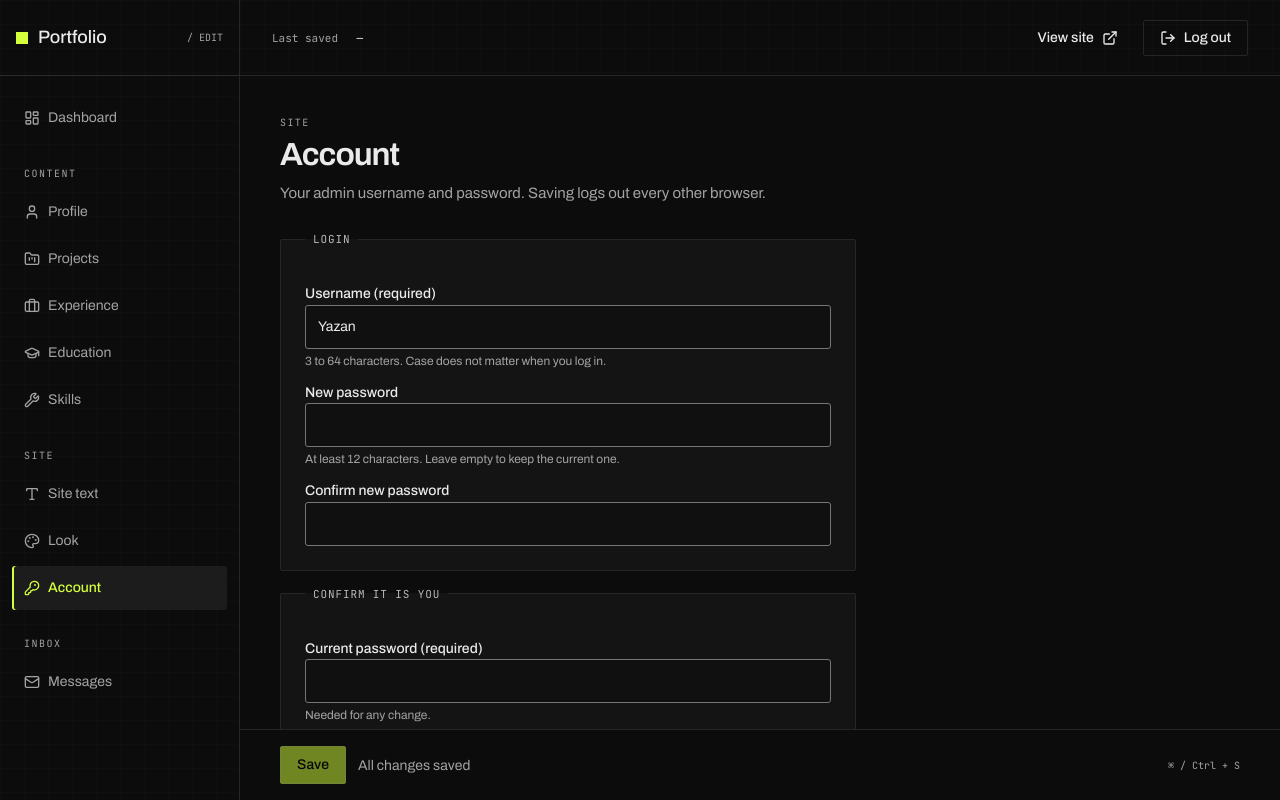
Test: AdminAccount › a stale save (409) shows the reload message and stays on the page
This screenshot has width=1280, height=800.
Replace the text in the field labelled "Username (required)" with "Admin2": coordinates (568, 327) 305,305 -> 831,349
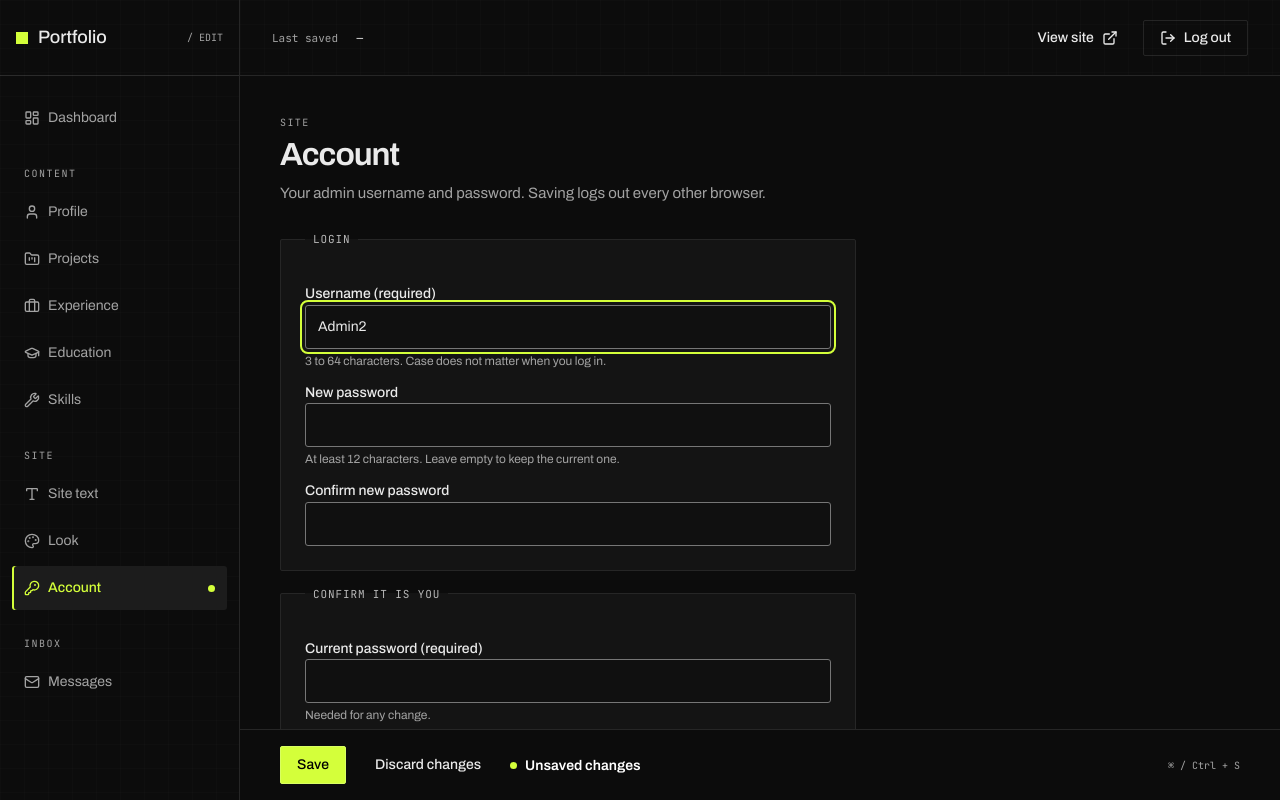
In the password field labelled "Current password (required)": coordinates (568, 681) 305,659 -> 831,703, type "the current password"
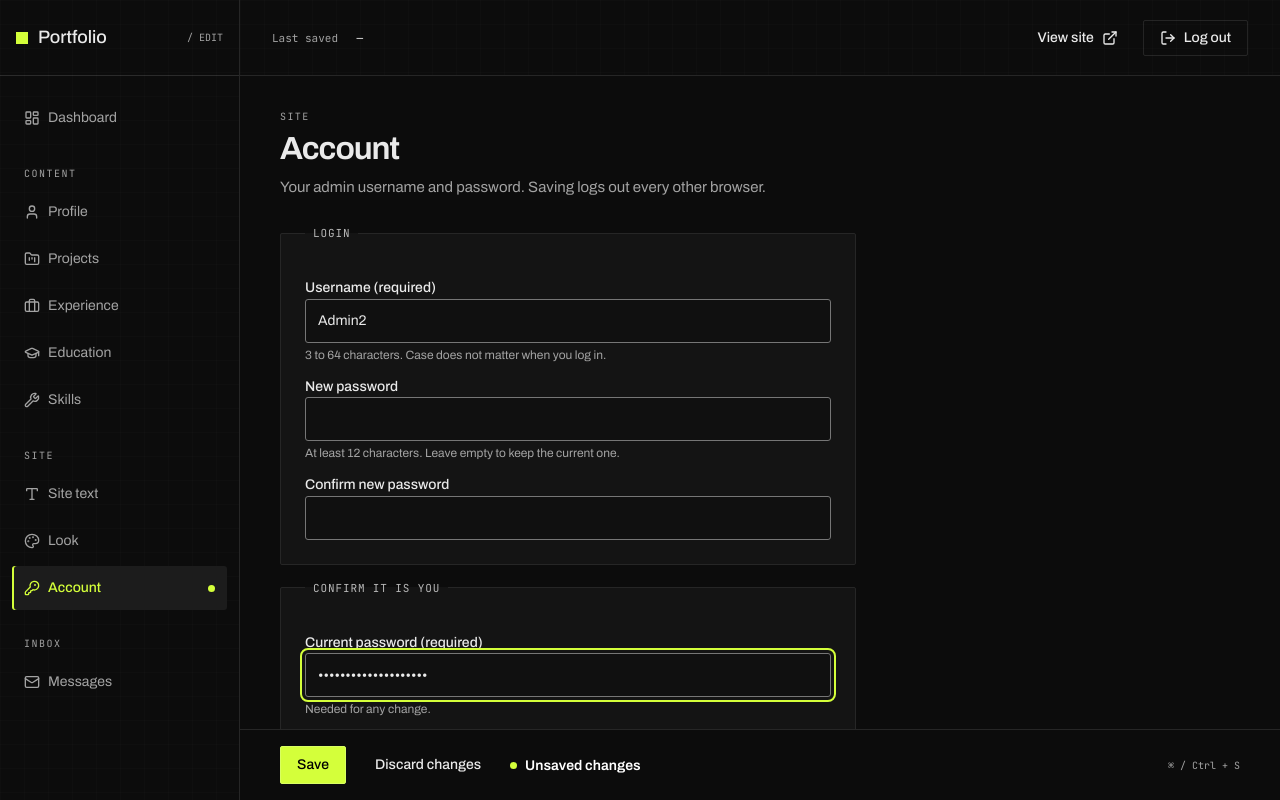
Click the button "Save": coordinates (313, 765) 280,746 -> 346,784
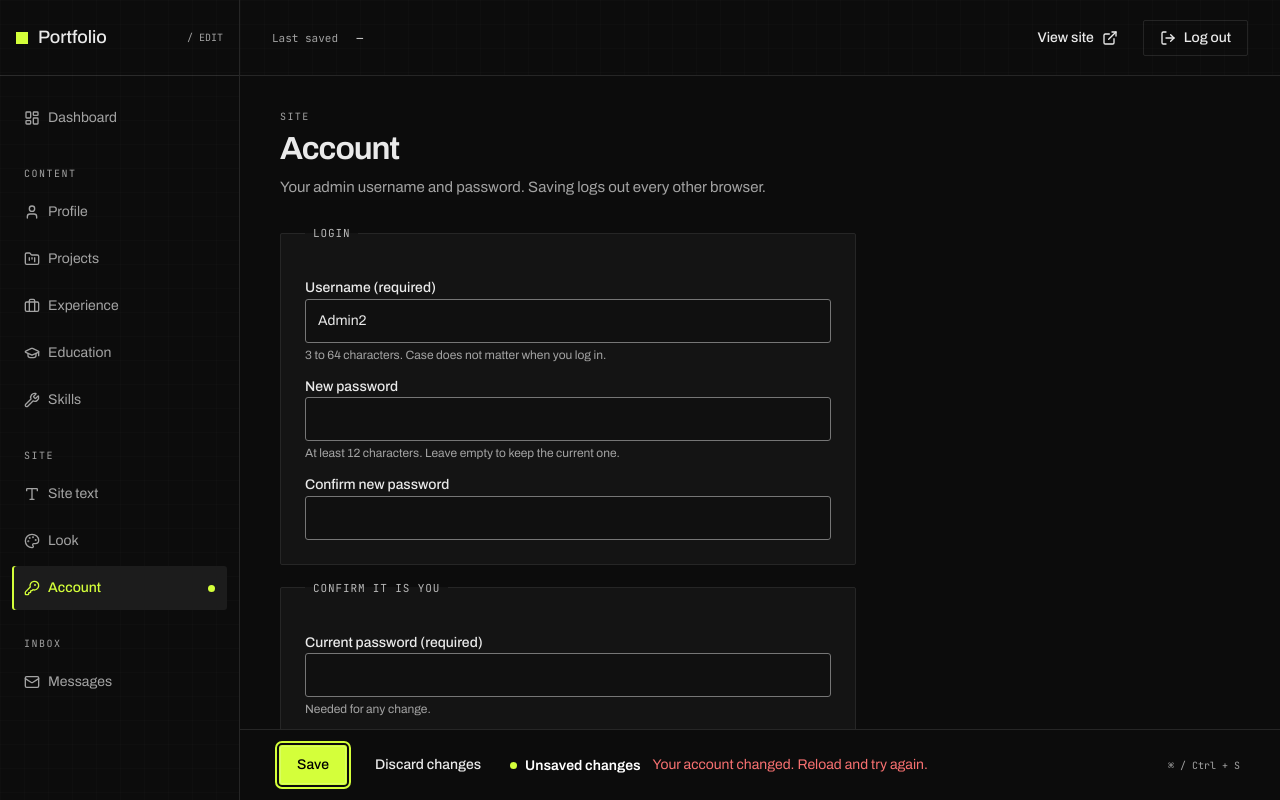
Result: the message "Your account changed. Reload and try again." is shown at 653,755 -> 928,775
